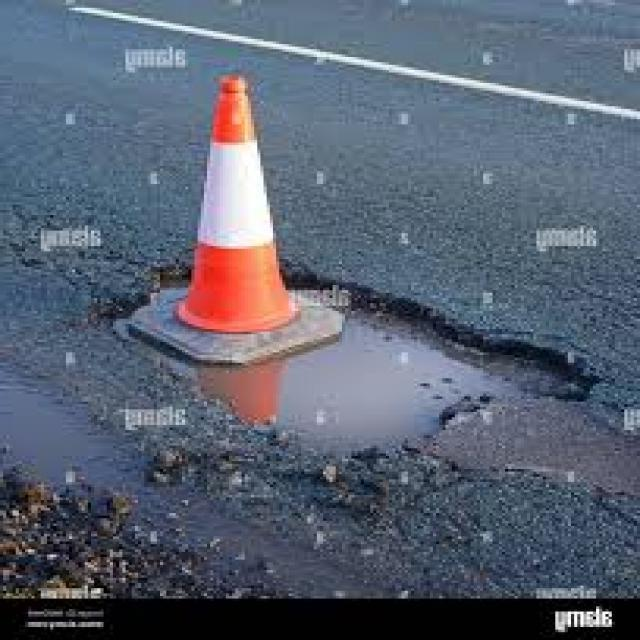Pothole: (201, 301, 605, 443)
